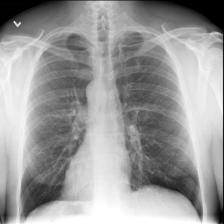normal: (17, 27, 206, 224)
